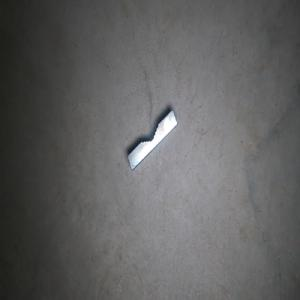ClampPart: (127, 108, 178, 171)
